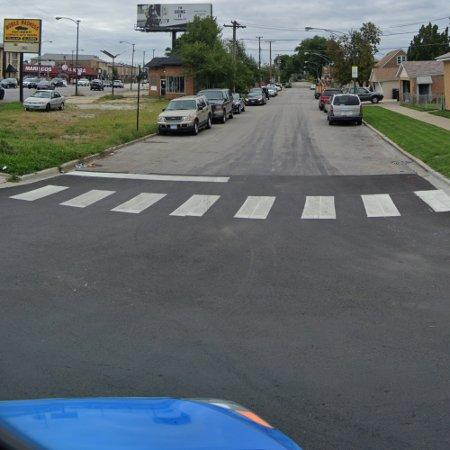crosswalks: (8, 183, 450, 220)
